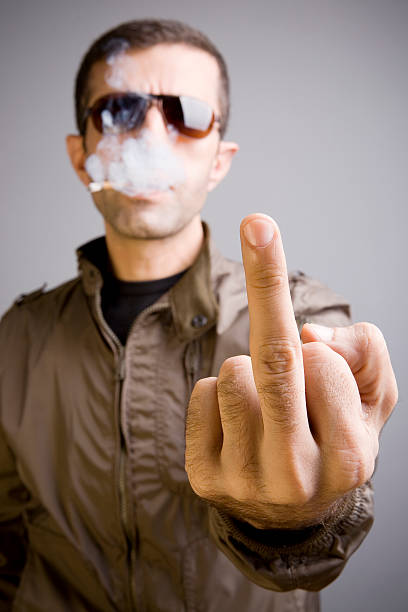insulting_gesture: (188, 210, 394, 523)
